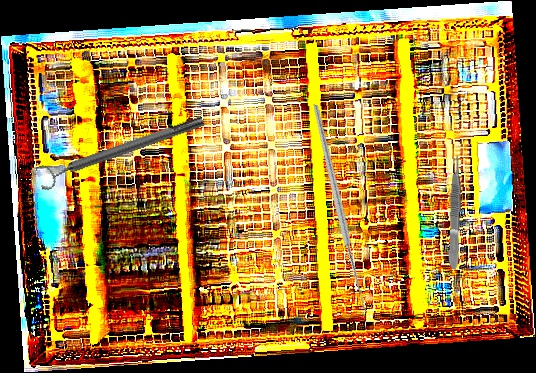Fixation Ring: (34, 108, 208, 193)
Hook Surgical: (258, 103, 432, 316)
Tissue Forceps: (446, 154, 465, 270)
